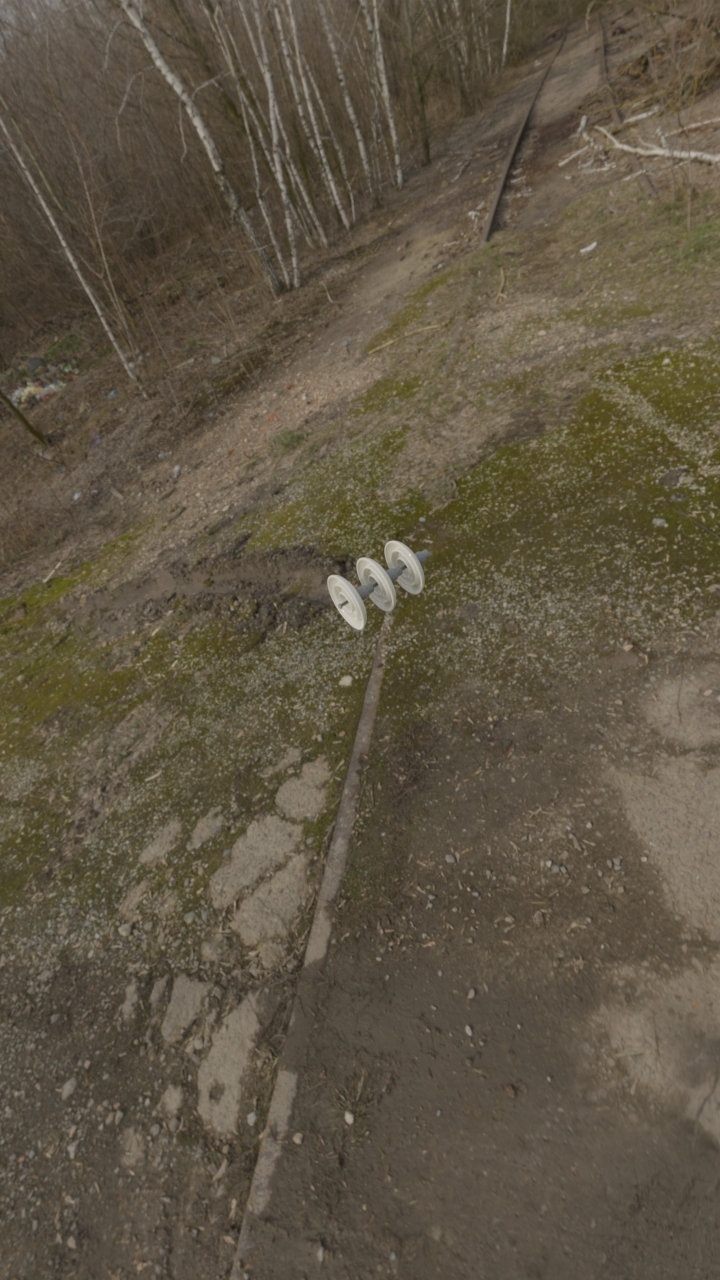ceramicinsulators: (327, 541, 431, 630)
